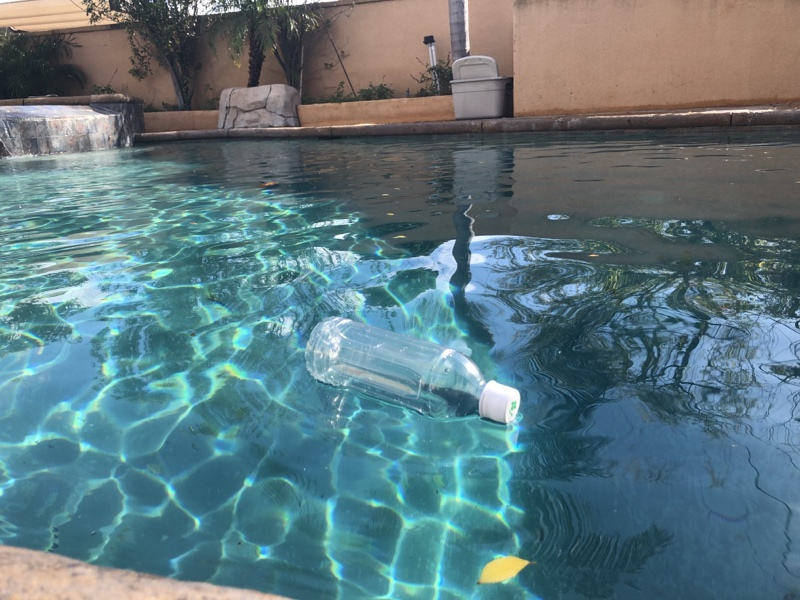Plastic Bottle: (302, 313, 522, 430)
